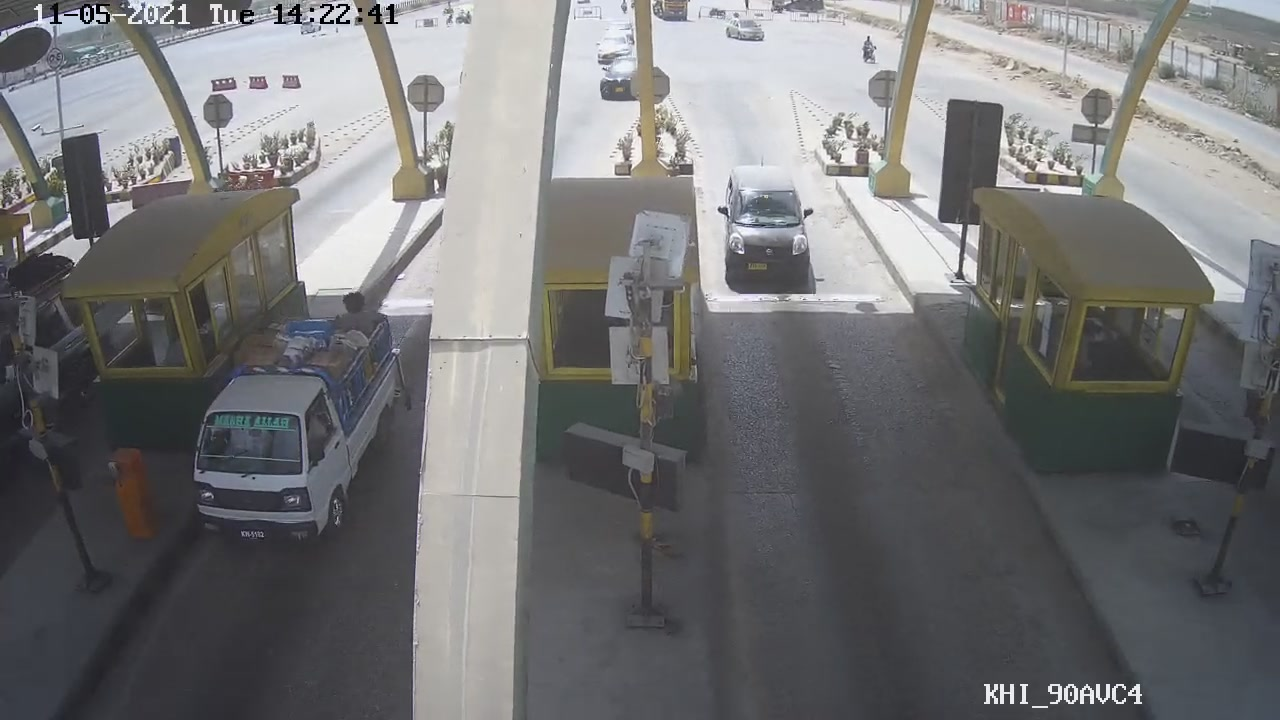F1: (714, 162, 815, 293)
